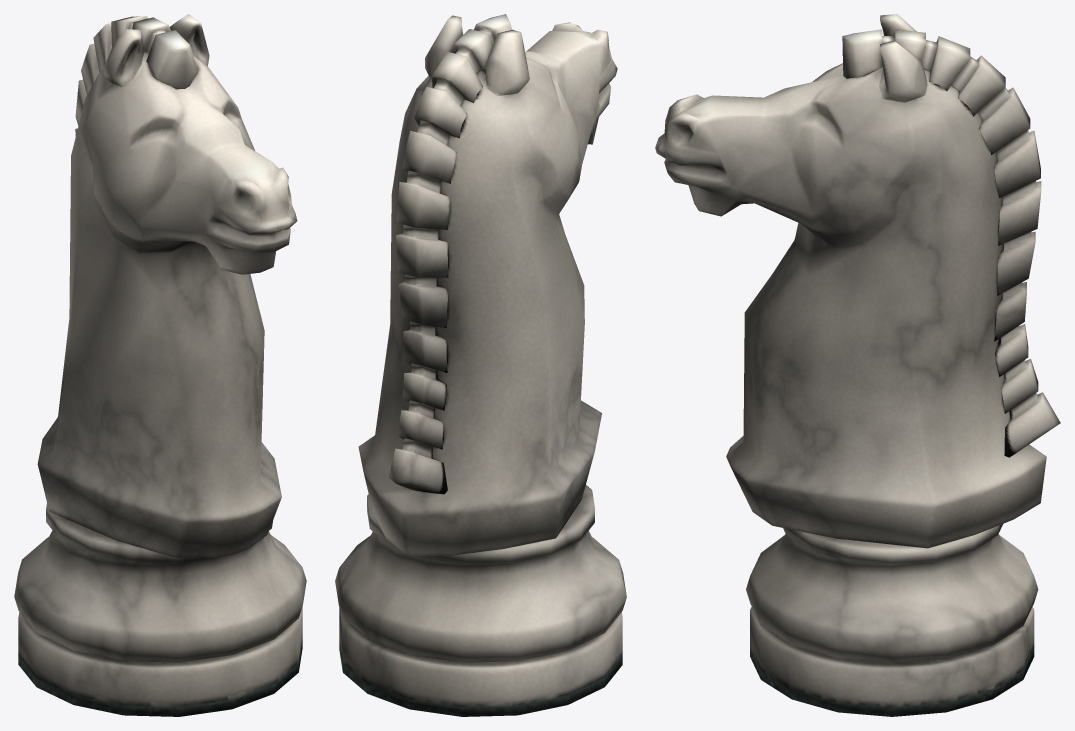
Rendered from ChessPieces_Knight_White.gltf.
3 renders of one model, left to right at view 1: azimuth 30°, elevation 25°; view 2: azimuth 150°, elevation 25°; view 3: azimuth 270°, elevation 25°, orthographic.
Visible parts, largest first — view 1: ChessPieces_Knight_White; view 2: ChessPieces_Knight_White; view 3: ChessPieces_Knight_White.
Boxes of the visible parts, x1,y1,x2,y2 form: ChessPieces_Knight_White: [14, 14, 306, 716]; ChessPieces_Knight_White: [335, 14, 626, 716]; ChessPieces_Knight_White: [655, 14, 1060, 716].
Bounding box in the file's own units: 0.0277 × 0.0655 × 0.0384.
1 material, 1 textured.
